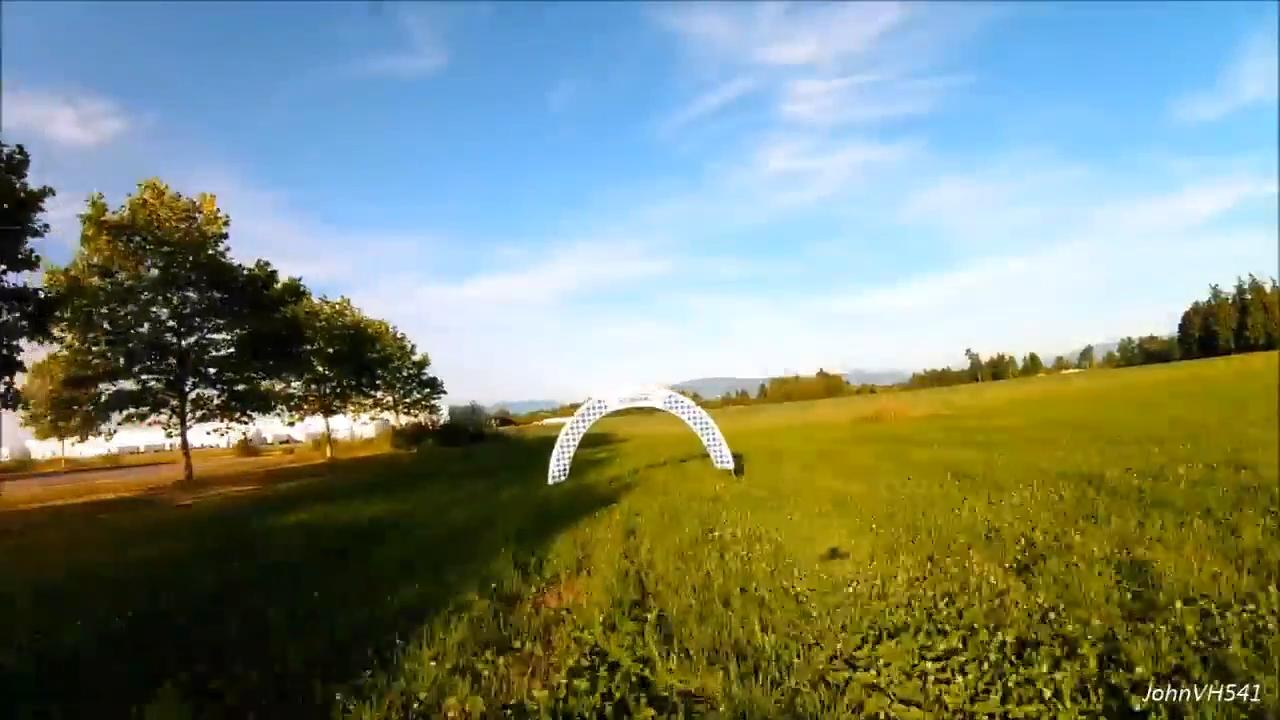gate: (542, 383, 739, 479)
